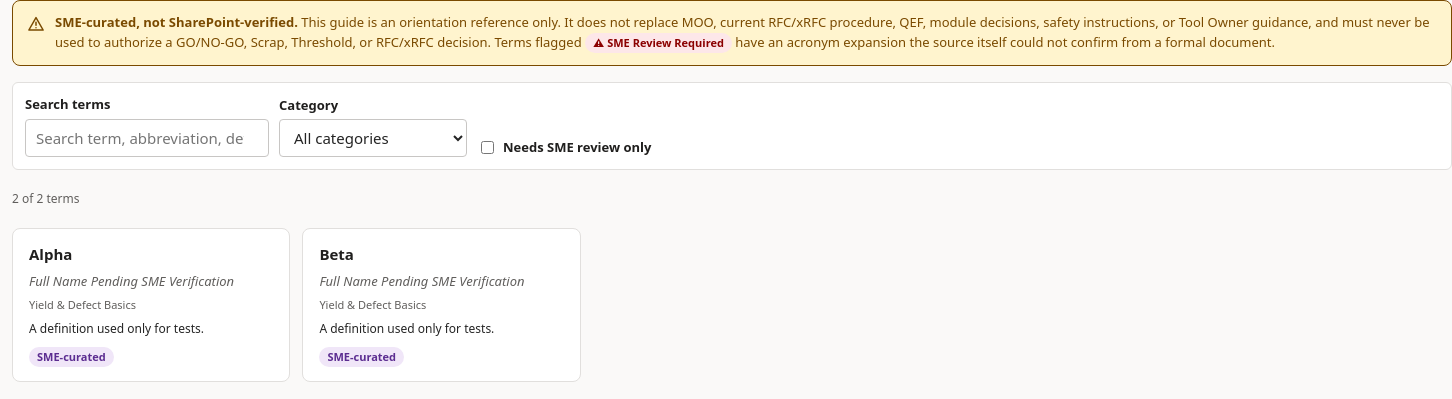
Test: SurvivalGuideView › filters by search query
Type "Alpha" into the search field labelled "Search terms" at (147, 138), box [25, 118, 269, 157]
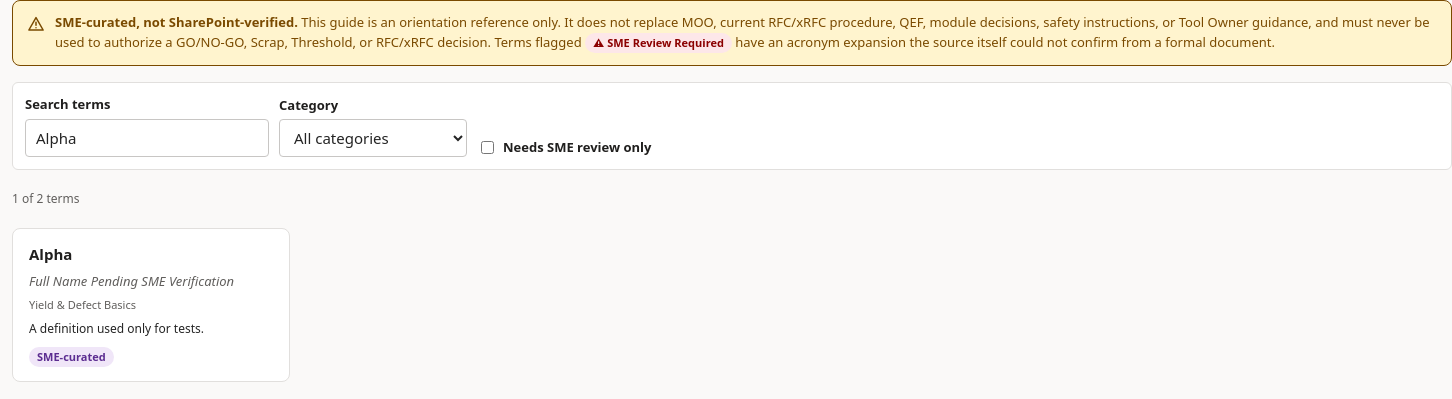
Expected: the button "Alpha" is shown, [12, 228, 290, 382]
Result: the button "Beta" is gone
